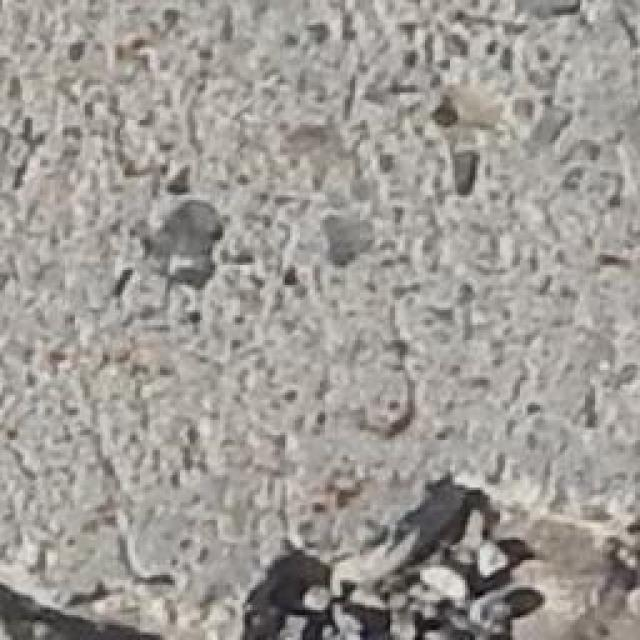concrete-crack: (0, 465, 640, 640), (140, 190, 225, 295)
